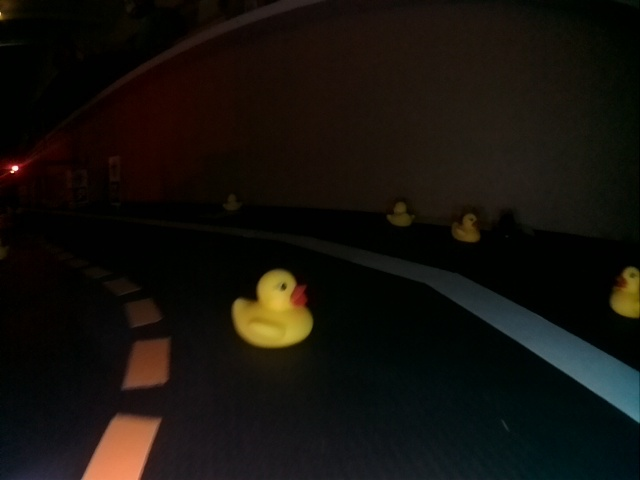Duckie: (232, 269, 313, 348), (609, 265, 637, 318), (450, 213, 481, 242), (387, 201, 411, 225), (225, 193, 239, 211)
Traffic light: (11, 163, 20, 173)
